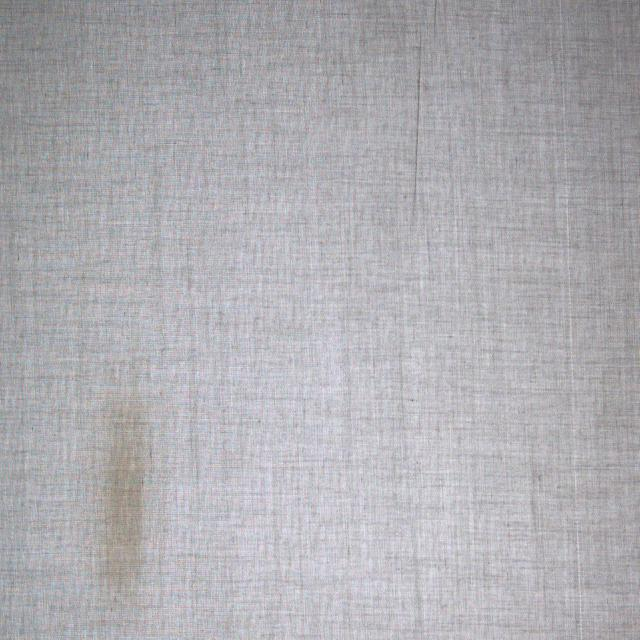dirty: (98, 392, 145, 598)
